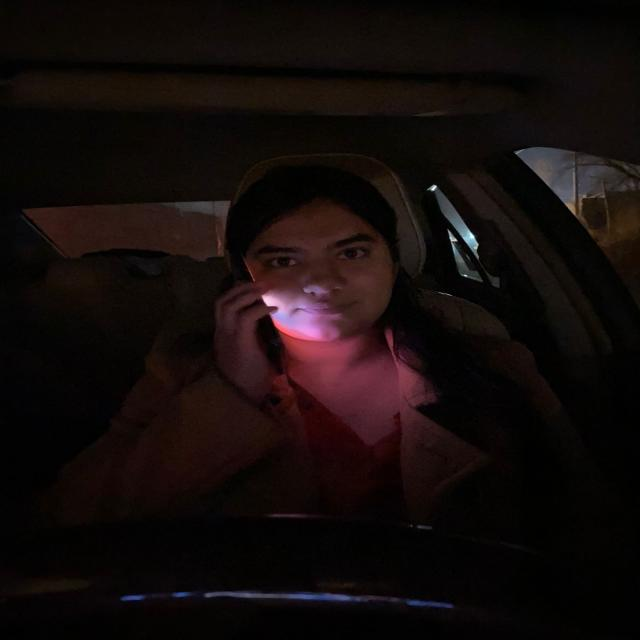mobile: (223, 260, 298, 380)
person: (242, 160, 391, 338)
